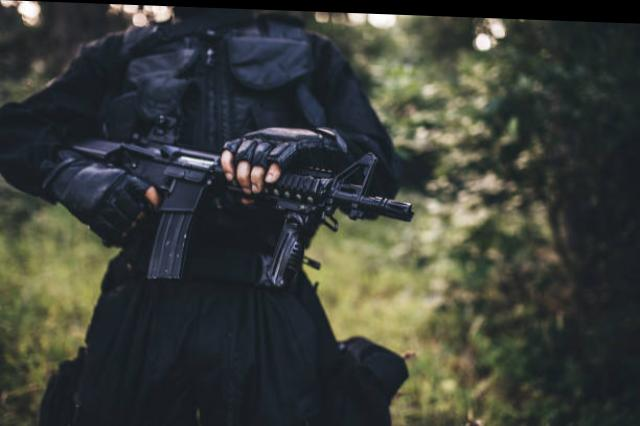other: (68, 7, 388, 396)
